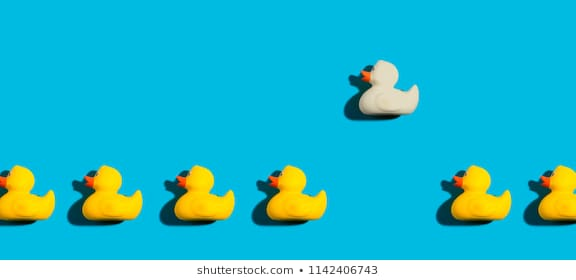duck: (145, 145, 252, 231), (50, 156, 154, 229), (340, 48, 425, 128)
